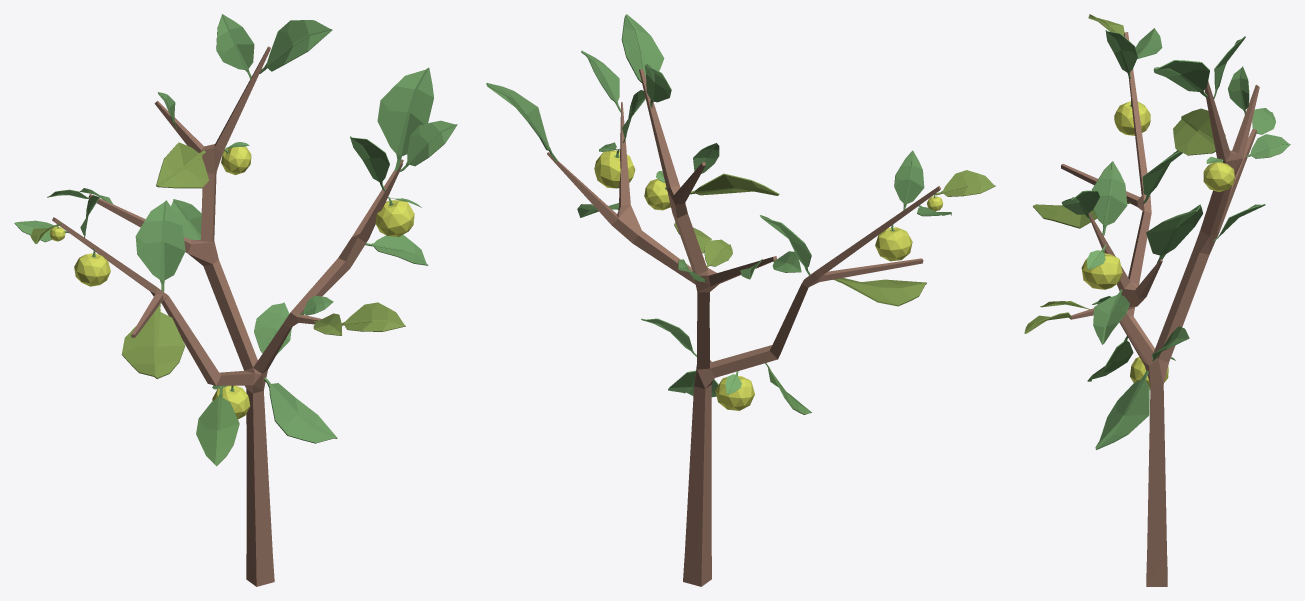
File: JerukTahap2.fbx
The picture shows the model from 3 angles, left to right: view 1: azimuth 30°, elevation 25°; view 2: azimuth 150°, elevation 25°; view 3: azimuth 270°, elevation 25°; orthographic projection. The views are drawn at different scales.
Parts seen in each view (by area): view 1: jeruk2.002; view 2: jeruk2.002; view 3: jeruk2.002.
Boxes of the visible parts, x1,y1,x2,y2 form: jeruk2.002: (14,14,457,586); jeruk2.002: (486,14,995,586); jeruk2.002: (1024,14,1290,586).
Bounding box in the file's own units: 61.92 × 71.56 × 31.14.
